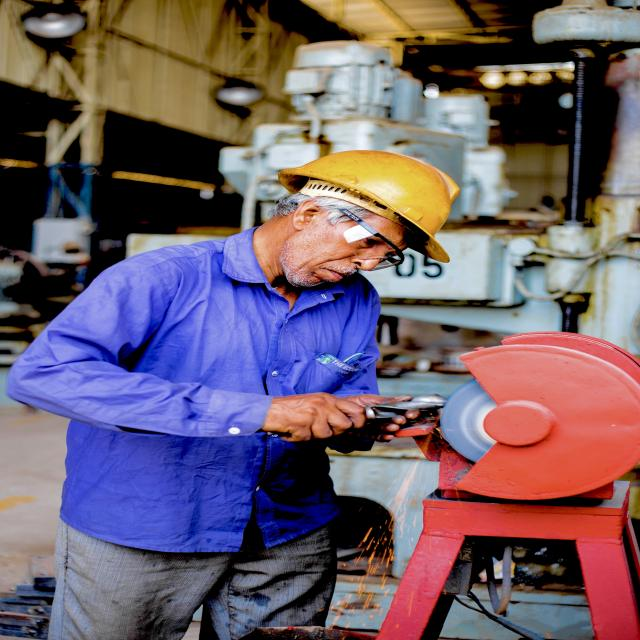Safety-Helmet: (276, 147, 462, 261)
